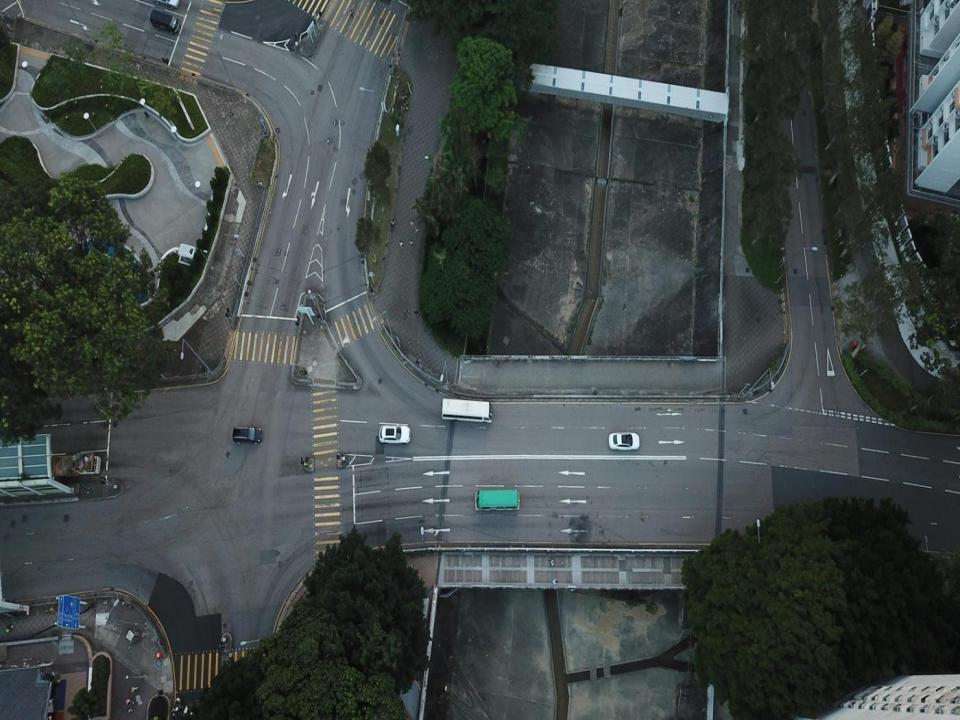car: (150, 8, 180, 34), (608, 432, 640, 450), (379, 425, 411, 443), (232, 427, 262, 444), (155, 0, 180, 8)
truck: (51, 453, 100, 475)
van: (442, 398, 493, 422), (474, 490, 520, 510)
